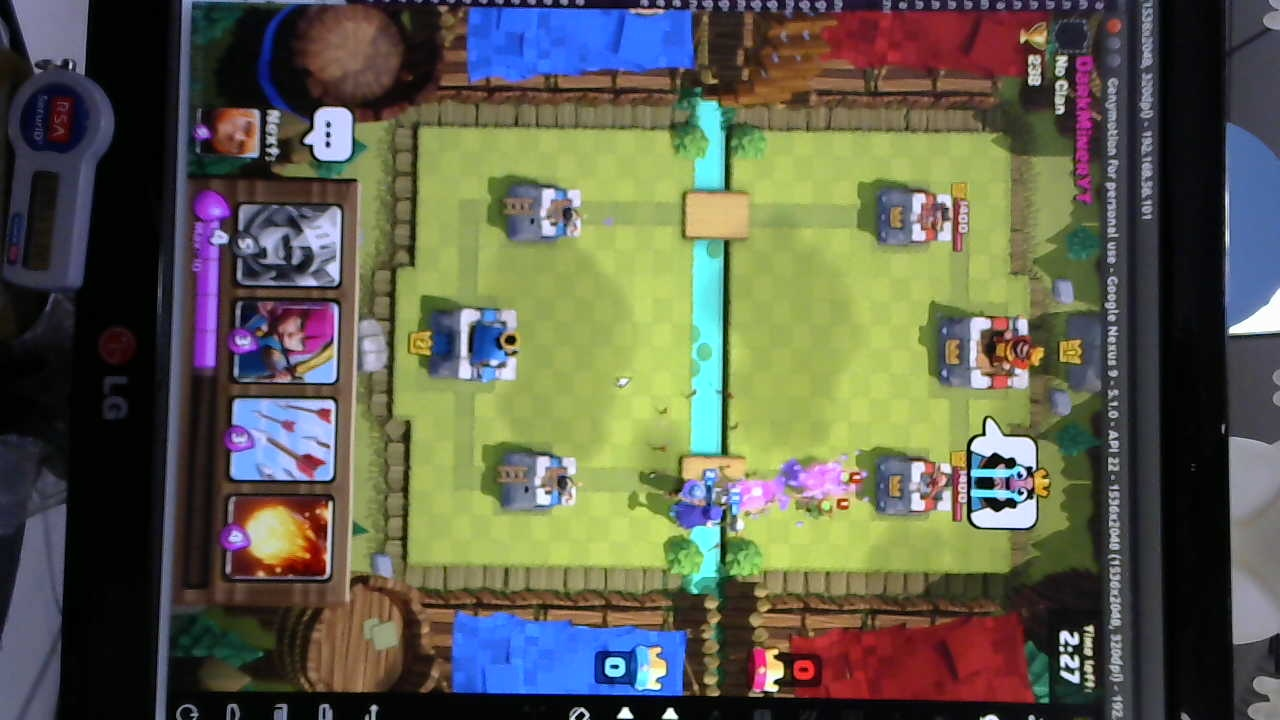arena: (501, 449, 580, 513), (506, 182, 585, 243)
earena: (871, 454, 956, 520), (879, 186, 961, 247)
eking: (932, 314, 1042, 391)
king: (424, 302, 518, 388)
musketeer: (663, 474, 708, 506)
speargoblins: (788, 464, 863, 520)
witch: (662, 497, 731, 532)
